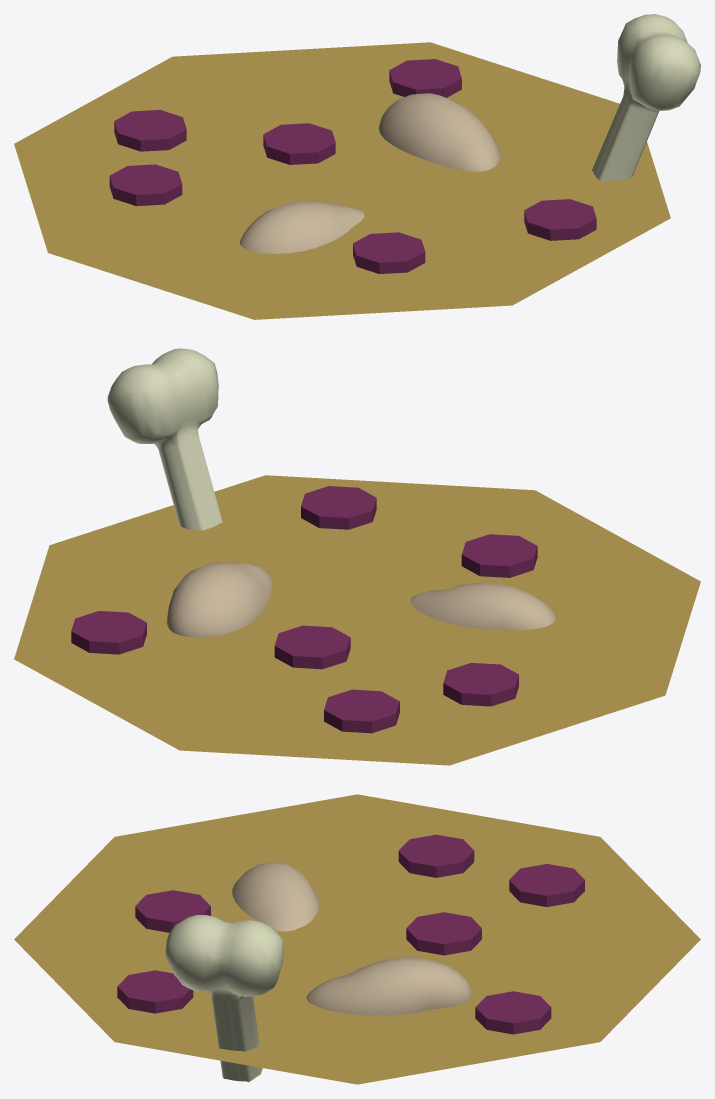
The model's file is SM_GoblinCamp_Stew.fbx.
3 renders of one model, top to bottom at view 1: azimuth 30°, elevation 25°; view 2: azimuth 150°, elevation 25°; view 3: azimuth 270°, elevation 25°, orthographic. The views are drawn at different scales.
Parts seen in each view (by area): view 1: SM_GoblinCamp_Stew; view 2: SM_GoblinCamp_Stew; view 3: SM_GoblinCamp_Stew.
Boxes of the visible parts, left/top/right/bottom form: SM_GoblinCamp_Stew: left=14, top=14, right=700, bottom=319; SM_GoblinCamp_Stew: left=14, top=348, right=700, bottom=765; SM_GoblinCamp_Stew: left=14, top=794, right=700, bottom=1084.
Size of the model in its own units: 66.08 by 21.24 by 66.08.
